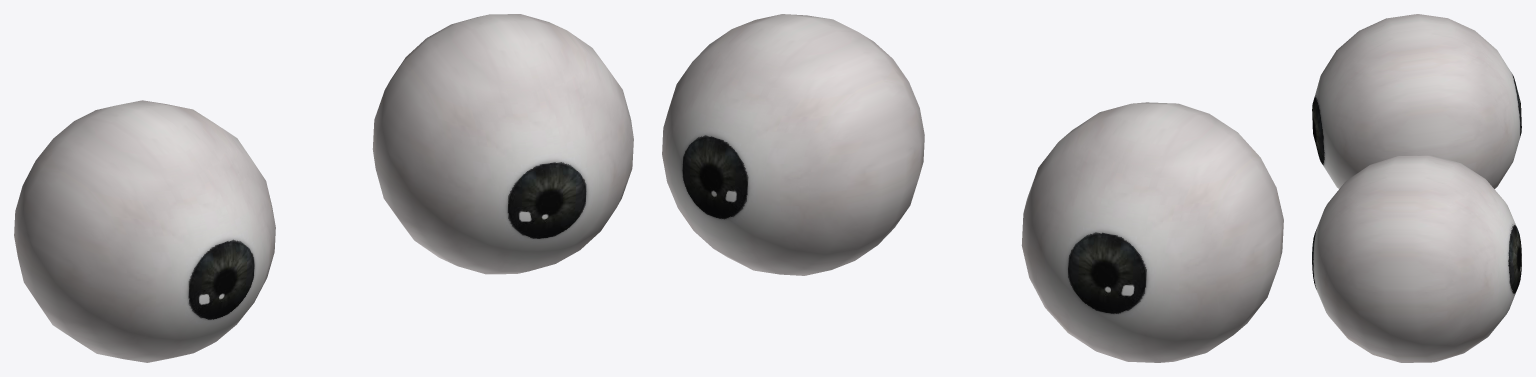
File: eyes 1.FBX
The picture shows the model from 3 angles, left to right: view 1: azimuth 30°, elevation 25°; view 2: azimuth 150°, elevation 25°; view 3: azimuth 270°, elevation 25°; orthographic projection. The views are drawn at different scales.
Visible parts, largest first — view 1: Sphere007, Sphere008; view 2: Sphere007, Sphere008; view 3: Sphere007, Sphere008.
Part boxes in pixels (x1,y1,x2,y2): Sphere007: (372,14,633,274); Sphere008: (14,100,275,362); Sphere007: (662,14,924,275); Sphere008: (1021,102,1283,362); Sphere007: (1312,155,1521,362); Sphere008: (1312,14,1521,188).
Bounding box in the file's own units: 12.1 × 4.71 × 4.69.
